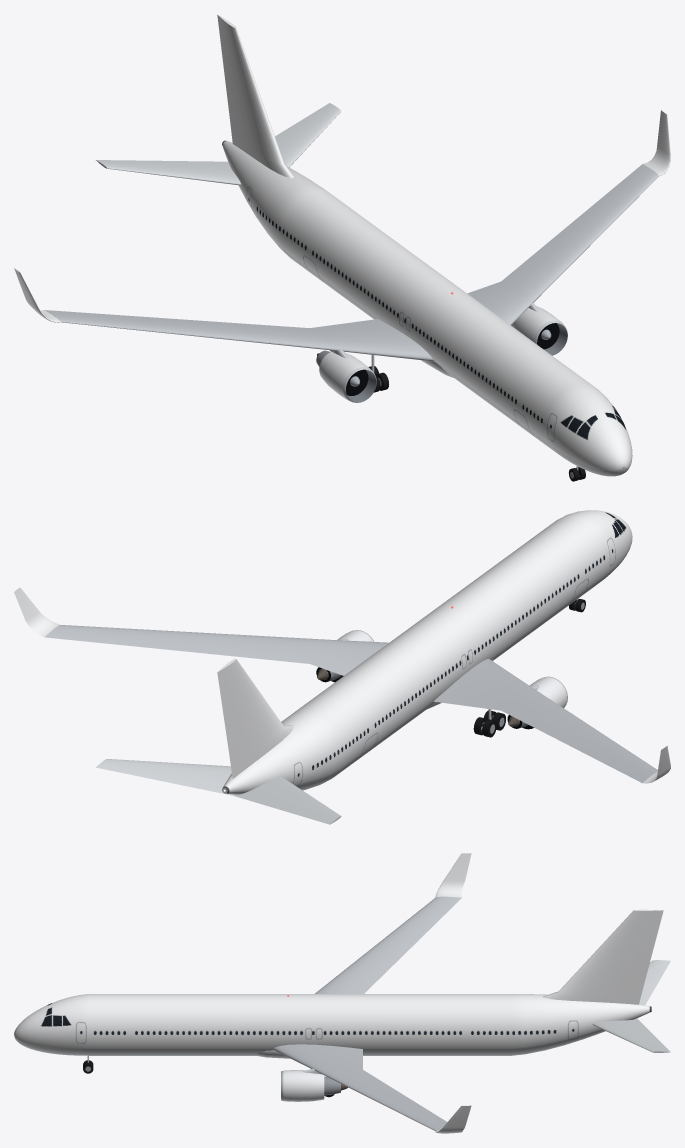
3 views of the same model, one above another, from view 1: azimuth 30°, elevation 25°; view 2: azimuth 150°, elevation 25°; view 3: azimuth 270°, elevation 25° (orthographic). The views are drawn at different scales.
Visible parts, largest first — view 1: body; view 2: body, gear; view 3: body.
Boxes of the visible parts, x1,y1,x2,y2 form: body: (14, 14, 670, 476); body: (14, 510, 670, 824); gear: (473, 598, 585, 737); body: (14, 853, 670, 1133).
Size of the model in its own units: 51.5 by 15.34 by 56.62.
19 materials, 1 textured.
